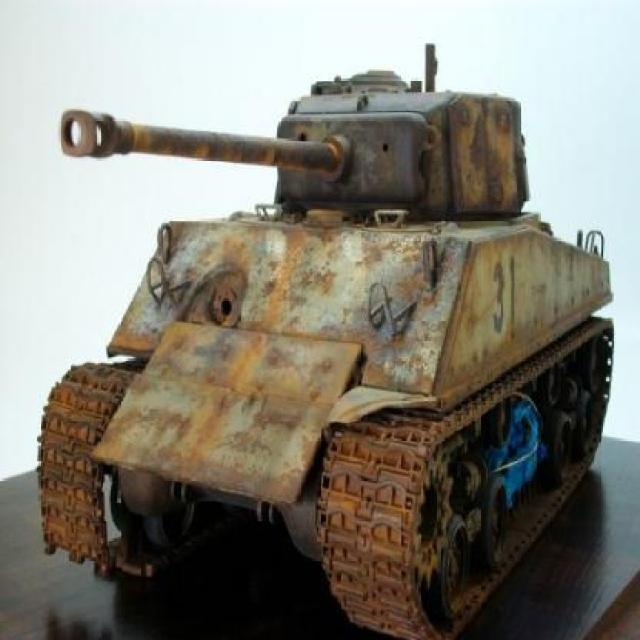corrosion: (36, 37, 618, 640)
